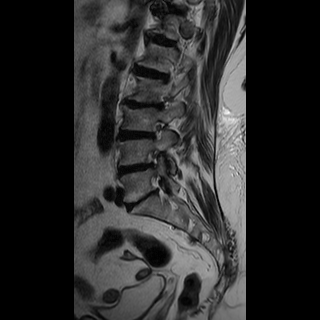LFS0: (146, 114, 169, 146)
